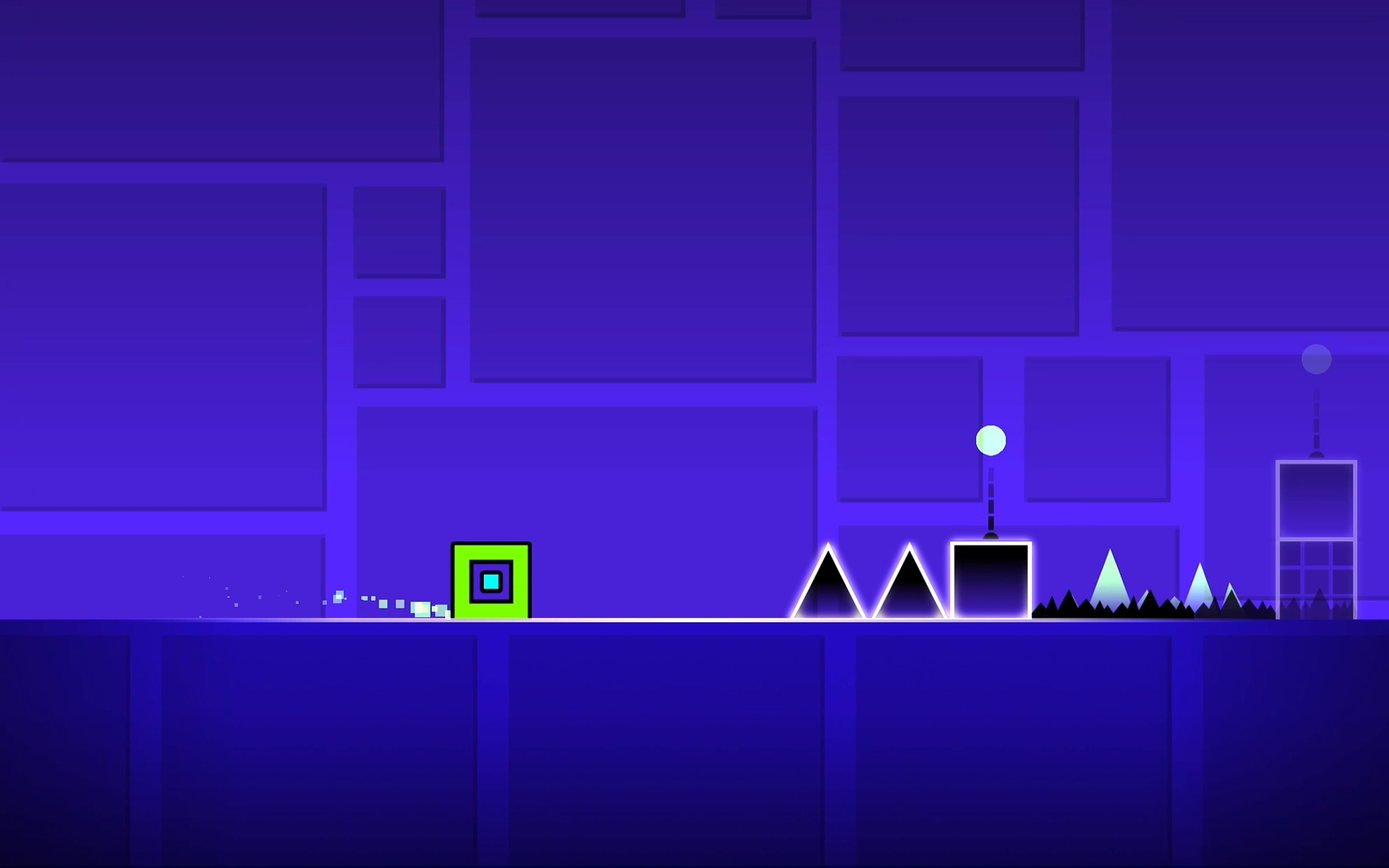Block: (949, 539, 1033, 617), (1280, 461, 1355, 538)
Block2: (1278, 536, 1356, 617)
Player: (449, 542, 532, 618)
Spike: (790, 544, 865, 618), (874, 544, 946, 618)
Spike3: (1031, 592, 1273, 620)
